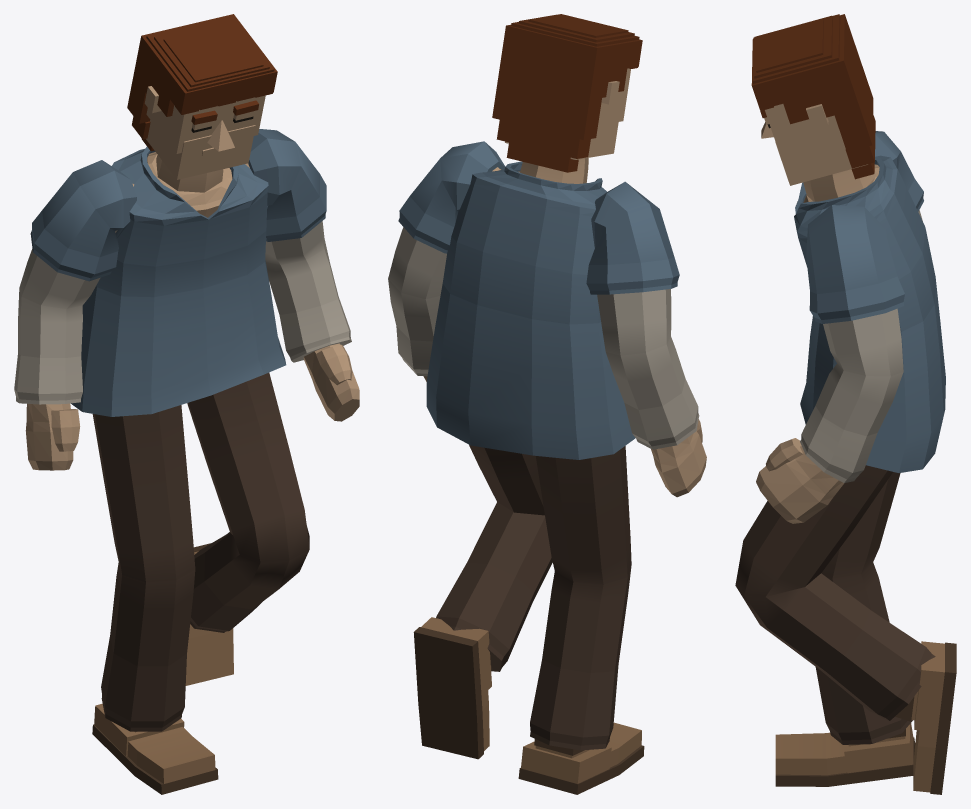
Rendered from suburban-resident-a9db9c__walk6.glb.
The picture shows the model from 3 angles, left to right: view 1: azimuth 30°, elevation 25°; view 2: azimuth 150°, elevation 25°; view 3: azimuth 270°, elevation 25°; orthographic projection. The views are drawn at different scales.
Parts seen in each view (by area): view 1: suburban-resident-a9db9c__walk6; view 2: suburban-resident-a9db9c__walk6; view 3: suburban-resident-a9db9c__walk6.
Boxes of the visible parts, box(x1,y1,x2,y2) form: suburban-resident-a9db9c__walk6: box(14, 14, 359, 794); suburban-resident-a9db9c__walk6: box(388, 14, 706, 794); suburban-resident-a9db9c__walk6: box(735, 14, 956, 794).
Bounding box in the file's own units: 0.7681 × 1.72 × 0.457.
